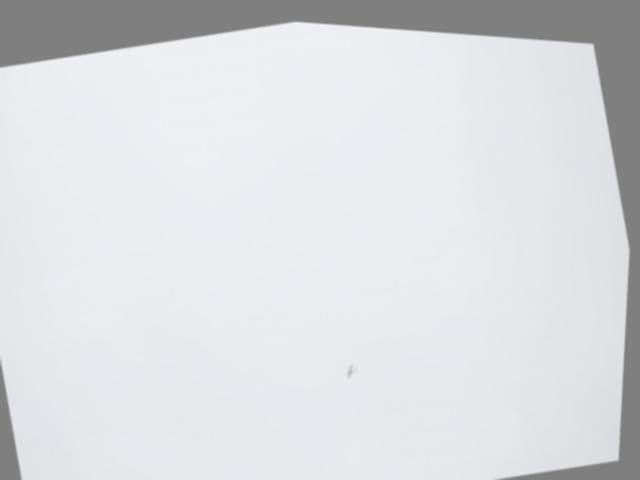uav: (338, 347, 371, 380)
